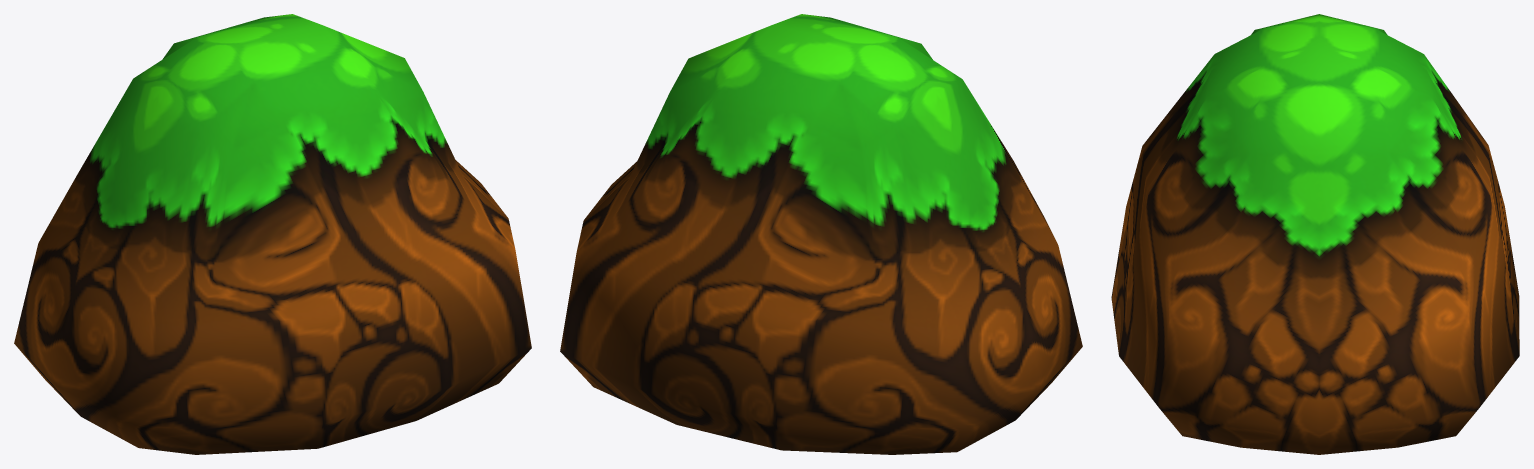
Rendered from Green_Rock_04.FBX.
3 views of the same model, side by side, from view 1: azimuth 30°, elevation 25°; view 2: azimuth 150°, elevation 25°; view 3: azimuth 270°, elevation 25° (orthographic). The views are drawn at different scales.
Parts seen in each view (by area): view 1: Green_Rock_04; view 2: Green_Rock_04; view 3: Green_Rock_04.
Boxes of the visible parts, x1,y1,x2,y2 form: Green_Rock_04: [14, 14, 531, 454]; Green_Rock_04: [560, 14, 1082, 454]; Green_Rock_04: [1111, 14, 1519, 454].
Size of the model in its own units: 292 by 212 by 243.
